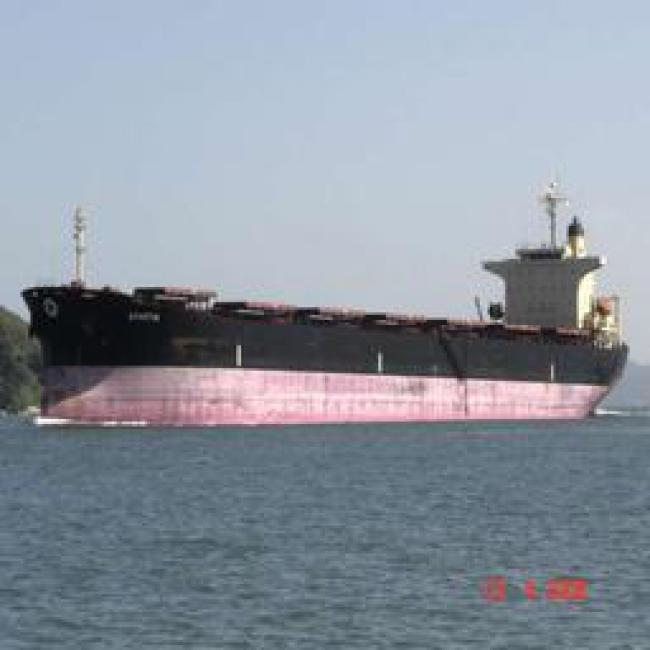Ship: (21, 262, 627, 450)
